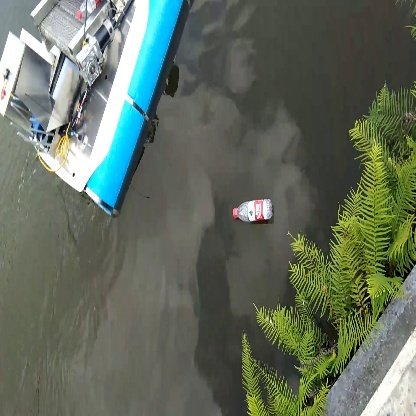bottle: (230, 197, 275, 226)
